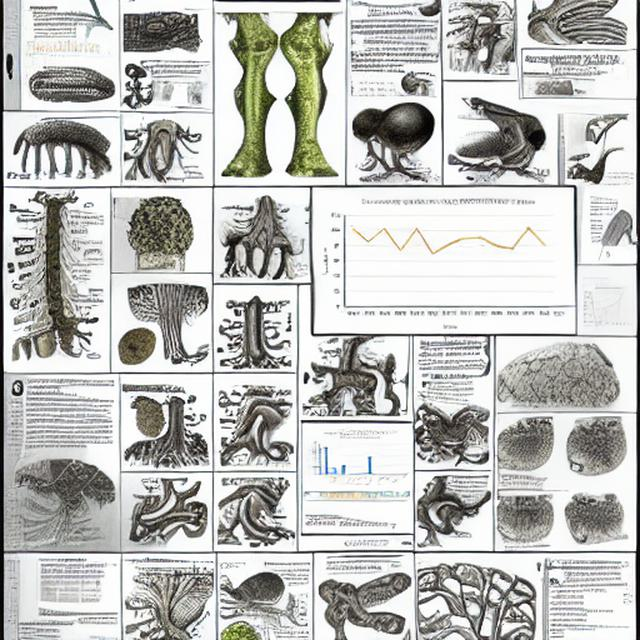Graph: (319, 193, 555, 332), (310, 429, 410, 490), (578, 284, 635, 327), (23, 31, 79, 63)
